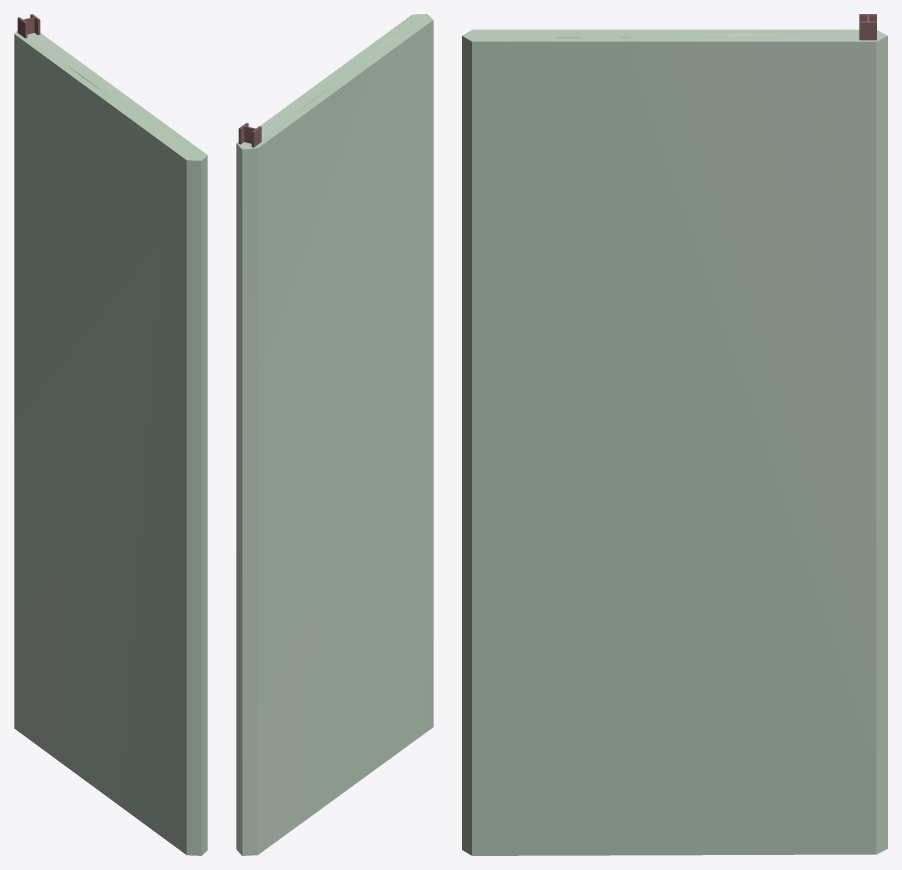
Rendered from wall_wood1.dae.
The picture shows the model from 3 angles, left to right: view 1: azimuth 30°, elevation 25°; view 2: azimuth 150°, elevation 25°; view 3: azimuth 270°, elevation 25°; orthographic projection. The views are drawn at different scales.
Visible parts, largest first — view 1: Colmesh-1, wall_wood1_a200; view 2: Colmesh-1, wall_wood1_a200; view 3: Colmesh-1, wall_wood1_a200.
Part boxes in pixels (box(x1,y1,x2,y2)): Colmesh-1: box(14, 30, 207, 855); wall_wood1_a200: box(18, 14, 172, 139); Colmesh-1: box(236, 14, 433, 855); wall_wood1_a200: box(238, 35, 397, 147); Colmesh-1: box(462, 29, 887, 855); wall_wood1_a200: box(530, 14, 876, 40).
Bounding box in the file's own units: 0.2118 × 3.18 × 6.85.
